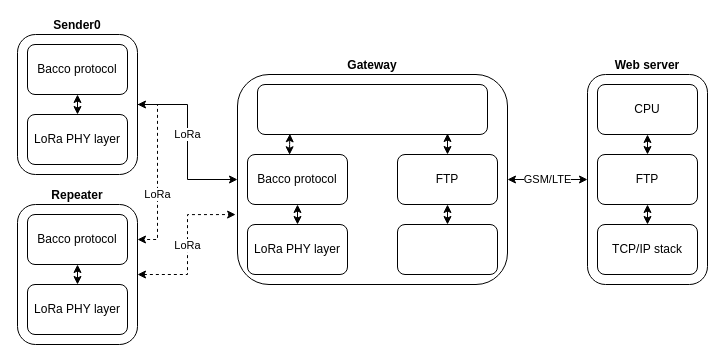
This 725x362 diagram has some shape labels left out. Each missing label, with the centre of its shape:
MCU: [372,109]
Mobile communication: [447,249]
